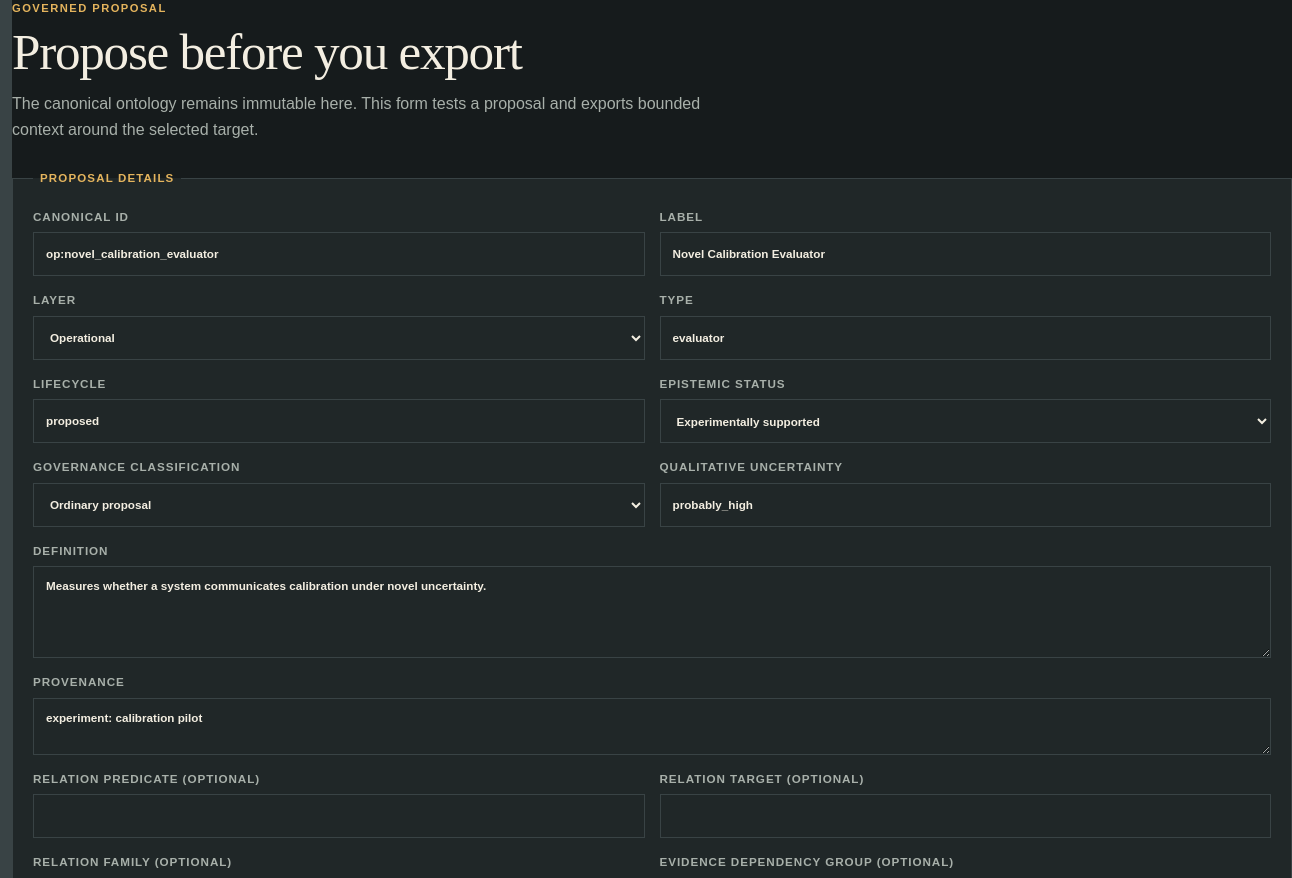
governed workbench views › labels validator findings without invariant keys instead of inventing a governance reference
This screenshot has width=1292, height=878.
Replace the text in the field labelled "Canonical ID" with "failure:goal_fixation" at (339, 254), box 33,232 -> 644,276
(page scrolled)
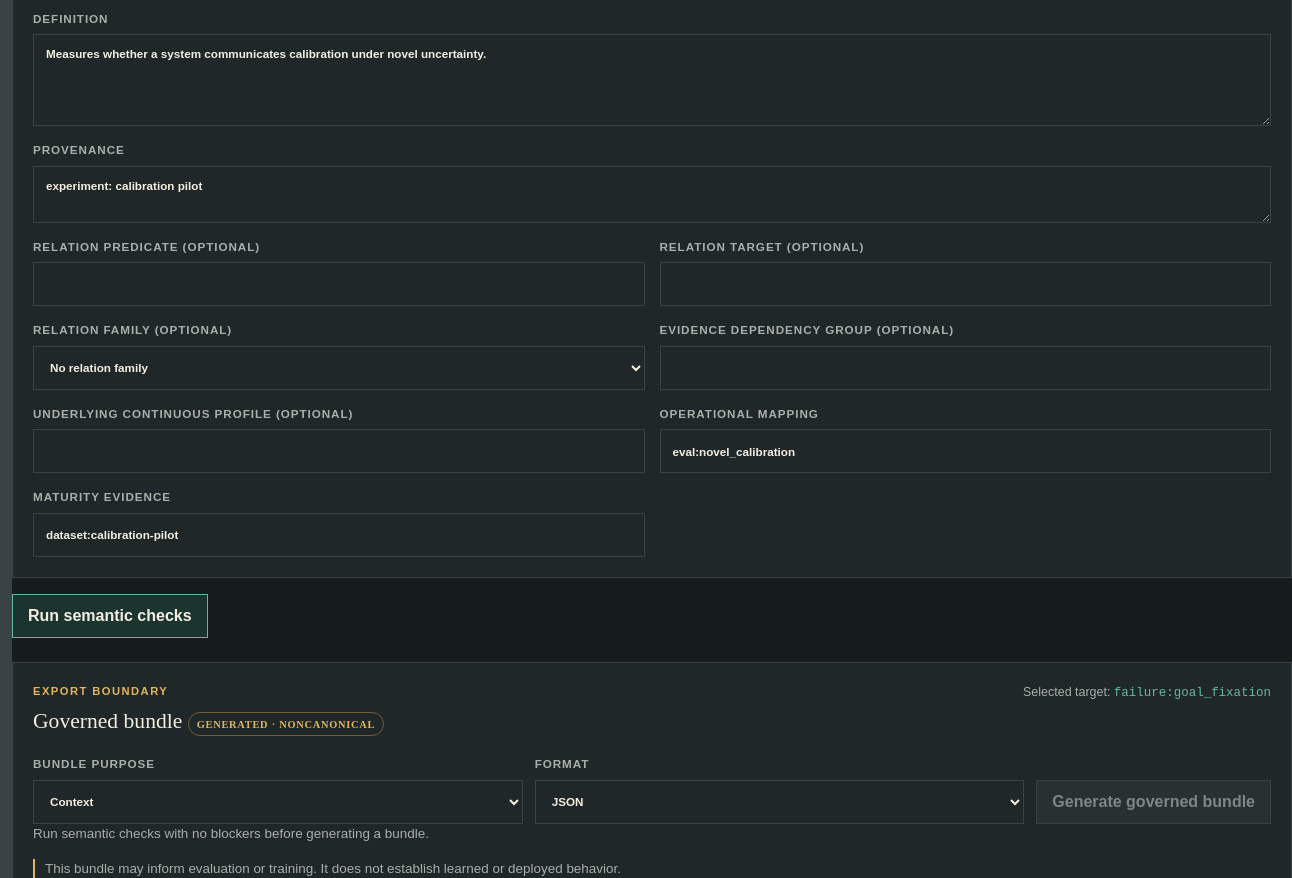
Click the button "Run semantic checks".
click(110, 616)  # box 12,594 -> 208,638
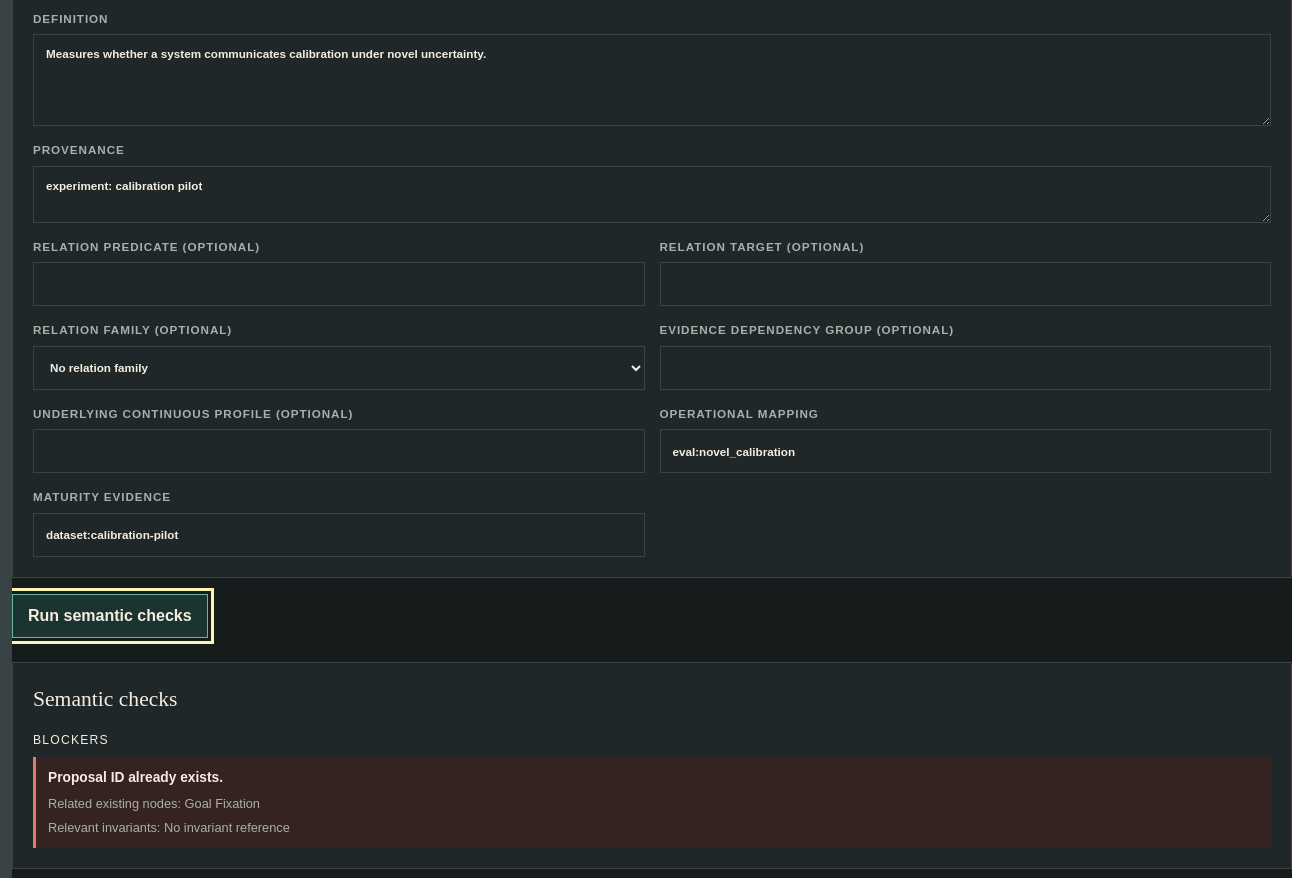
expect the text "Proposal ID already exists." is shown: met, box 48,770 -> 223,785
expect the text "Relevant invariants: No invariant reference" is shown: met, box 48,820 -> 290,835
